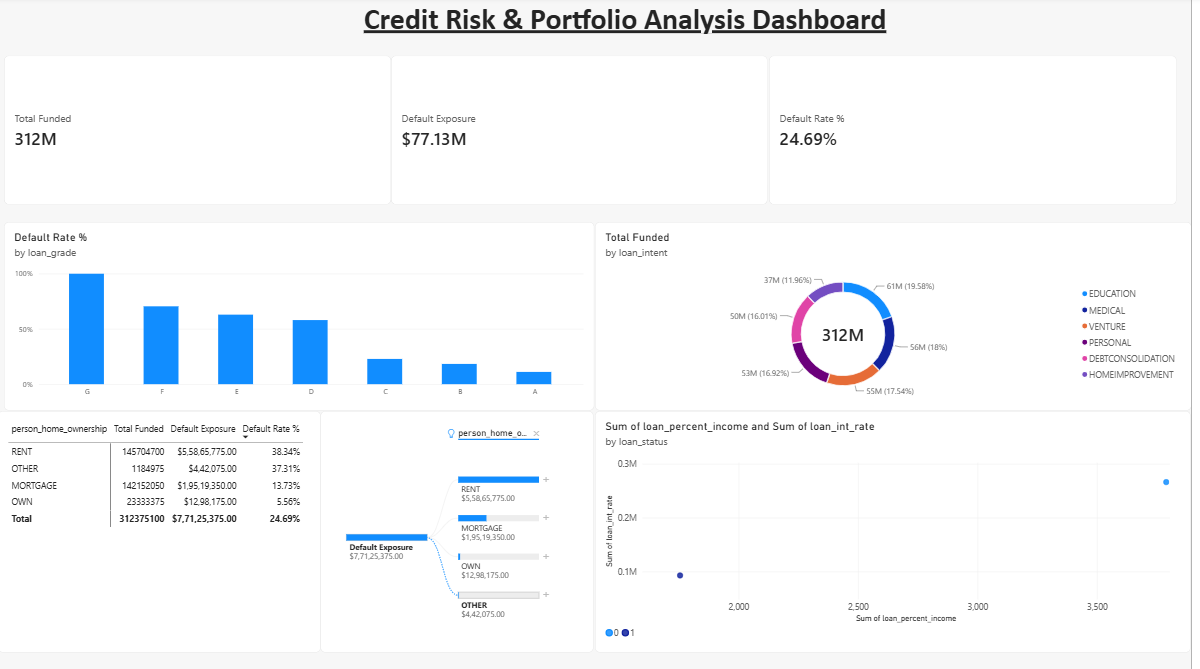

This screenshot's page, from the dashboard's own definition file:
{"tool":"powerbi","page":{"name":"Page 1","canvas":[1920,1080],"ordinal":0},"visuals":[{"type":"cardVisual","fields":{"Data":["cleaned_loan_data.Total Funded"]},"box":[10,90,623.3,240],"z":0},{"type":"cardVisual","fields":{"Data":["cleaned_loan_data.Default Exposure"]},"box":[633.3,90,606.7,240],"z":1000},{"type":"cardVisual","fields":{"Data":["cleaned_loan_data.Default Rate %"]},"box":[1240,90,656.7,240],"z":2000},{"type":"clusteredColumnChart","fields":{"Category":["cleaned_loan_data.loan_grade"],"Y":["cleaned_loan_data.Default Rate %"]},"box":[10,356.7,950,303.3],"z":3000},{"type":"donutChart","fields":{"Category":["cleaned_loan_data.loan_intent"],"Y":["cleaned_loan_data.Total Funded"]},"box":[960,356.7,960,303.3],"z":4000},{"type":"pivotTable","fields":{"Rows":["cleaned_loan_data.person_home_ownership"],"Values":["cleaned_loan_data.Total Funded","cleaned_loan_data.Default Exposure","cleaned_loan_data.Default Rate %"]},"box":[0,661.5,519,388.7],"z":5000},{"type":"textbox","box":[410,0,1197.5,90],"z":6000},{"type":"decompositionTreeVisual","fields":{"Analyze":["cleaned_loan_data.Default Exposure"],"ExplainBy":["cleaned_loan_data.person_home_ownership","cleaned_loan_data.loan_grade","cleaned_loan_data.loan_intent"]},"box":[519,661.5,439.4,388.7],"z":7000},{"type":"scatterChart","fields":{"Series":["cleaned_loan_data.loan_status"],"X":["Sum(cleaned_loan_data.loan_percent_income)"],"Y":["Sum(cleaned_loan_data.loan_int_rate)"]},"box":[960.8,661.5,958.4,388.7],"z":8000}]}

Visuals, with their boxes in screenshot pixels (x1, y1, x2, y2), scaled from the page's 1920x1080 canvas onto the 1200x669 screenshot:
cardVisual - cleaned_loan_data.Total Funded: (6, 56, 396, 204)
cardVisual - cleaned_loan_data.Default Exposure: (396, 56, 775, 204)
cardVisual - cleaned_loan_data.Default Rate %: (775, 56, 1185, 204)
clusteredColumnChart - cleaned_loan_data.loan_grade x cleaned_loan_data.Default Rate %: (6, 221, 600, 409)
donutChart - cleaned_loan_data.loan_intent x cleaned_loan_data.Total Funded: (600, 221, 1199, 409)
pivotTable - cleaned_loan_data.person_home_ownership x cleaned_loan_data.Total Funded: (0, 410, 324, 651)
textbox: (256, 0, 1005, 56)
decompositionTreeVisual - cleaned_loan_data.Default Exposure x cleaned_loan_data.person_home_ownership: (324, 410, 599, 651)
scatterChart - cleaned_loan_data.loan_status x Sum(cleaned_loan_data.loan_percent_income): (600, 410, 1199, 651)
